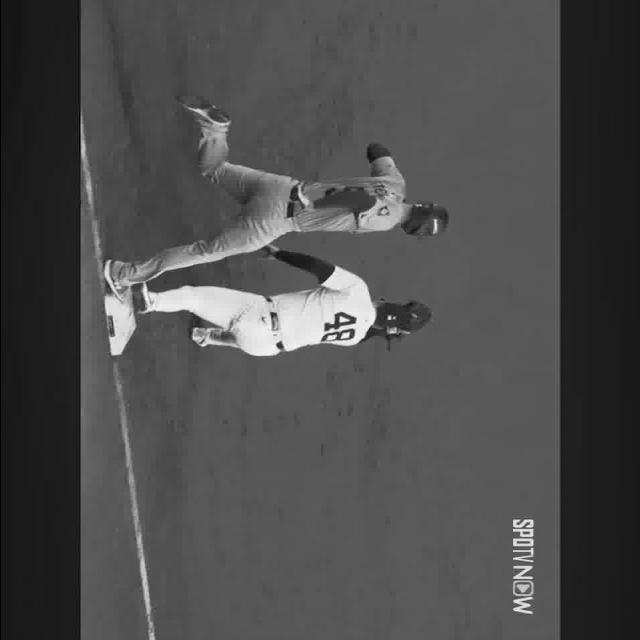base: (103, 292, 135, 356)
baseball_glove: (380, 301, 432, 341)
shoe: (177, 96, 230, 128), (104, 259, 130, 301), (128, 284, 150, 314), (190, 328, 212, 344)
